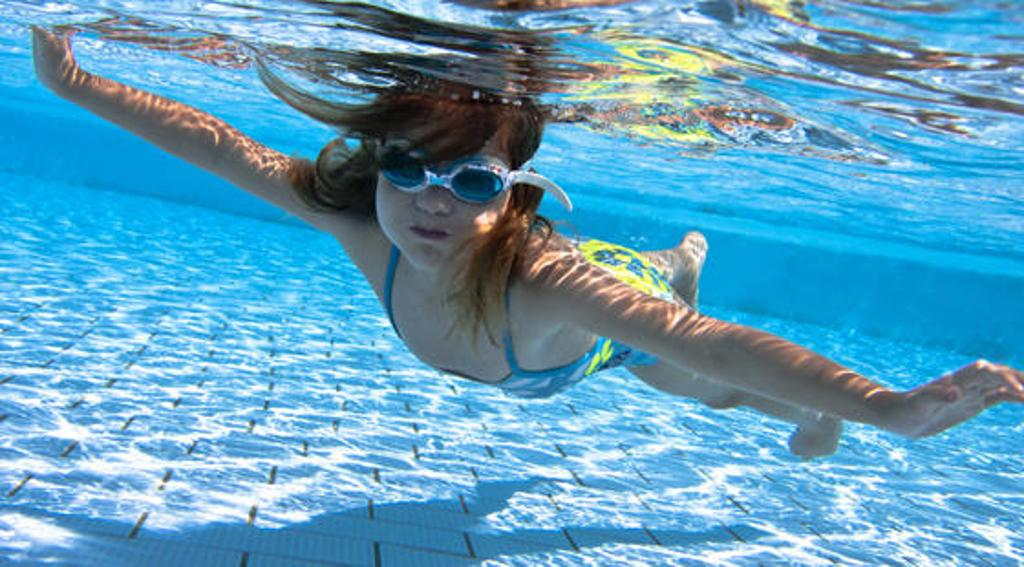face: (378, 126, 512, 260)
